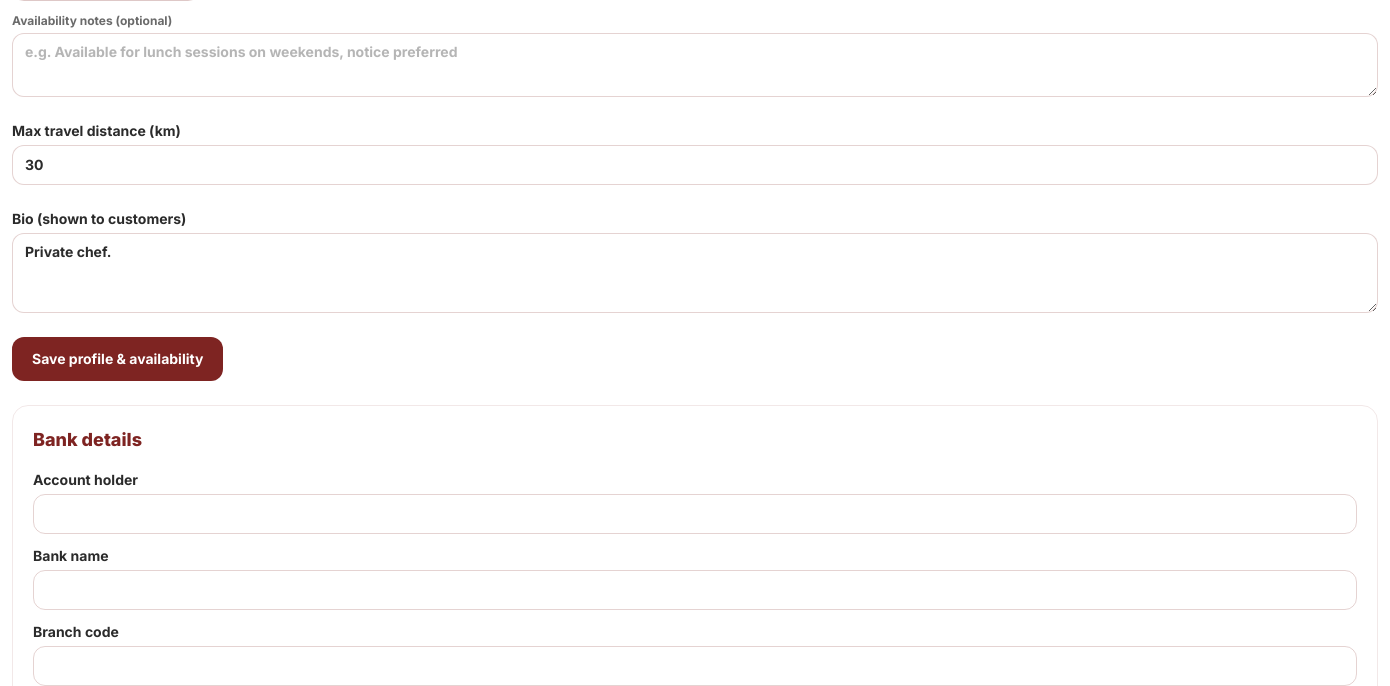
it: Chef portal sessions › blocks saving until a service area is selected
This screenshot has width=1390, height=686.
(page scrolled)
Click the button "Save profile & availability". click: (118, 359)
box: [12,337,223,381]
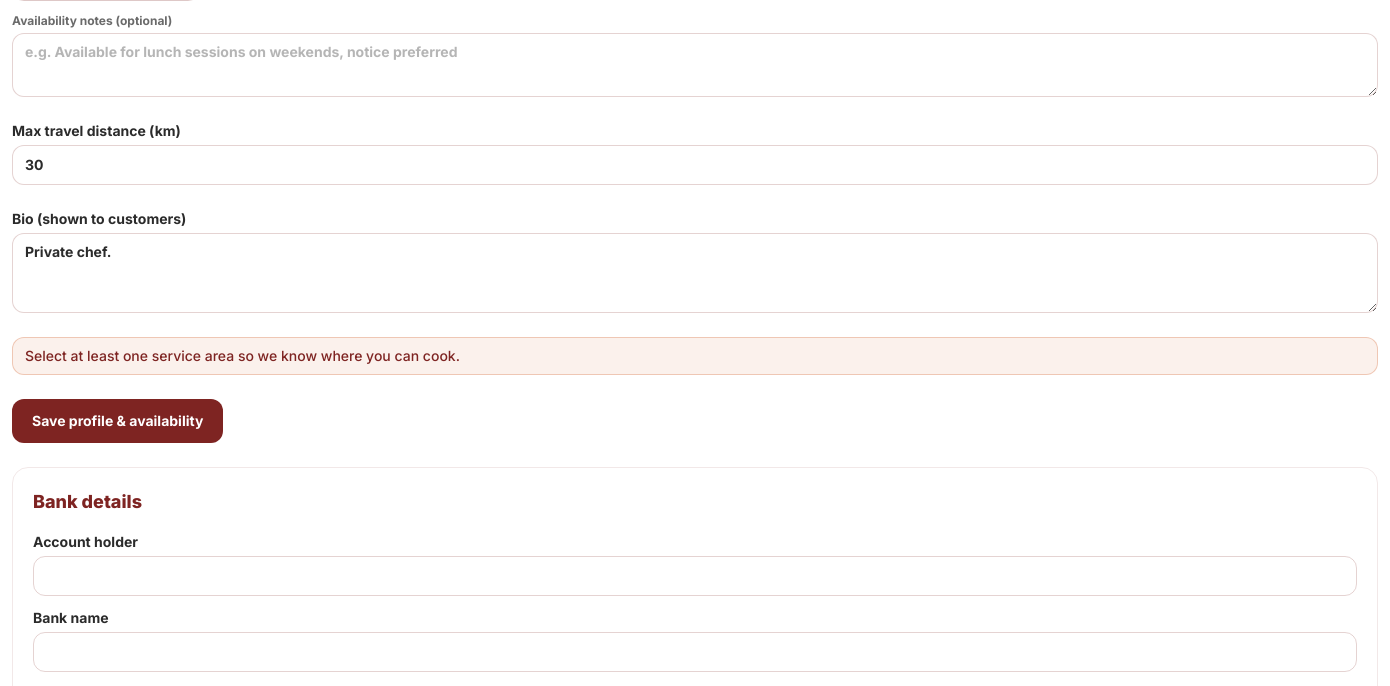
Now the text "Select at least one service area so we know where you can cook." is shown, box [12,337,1378,375]
